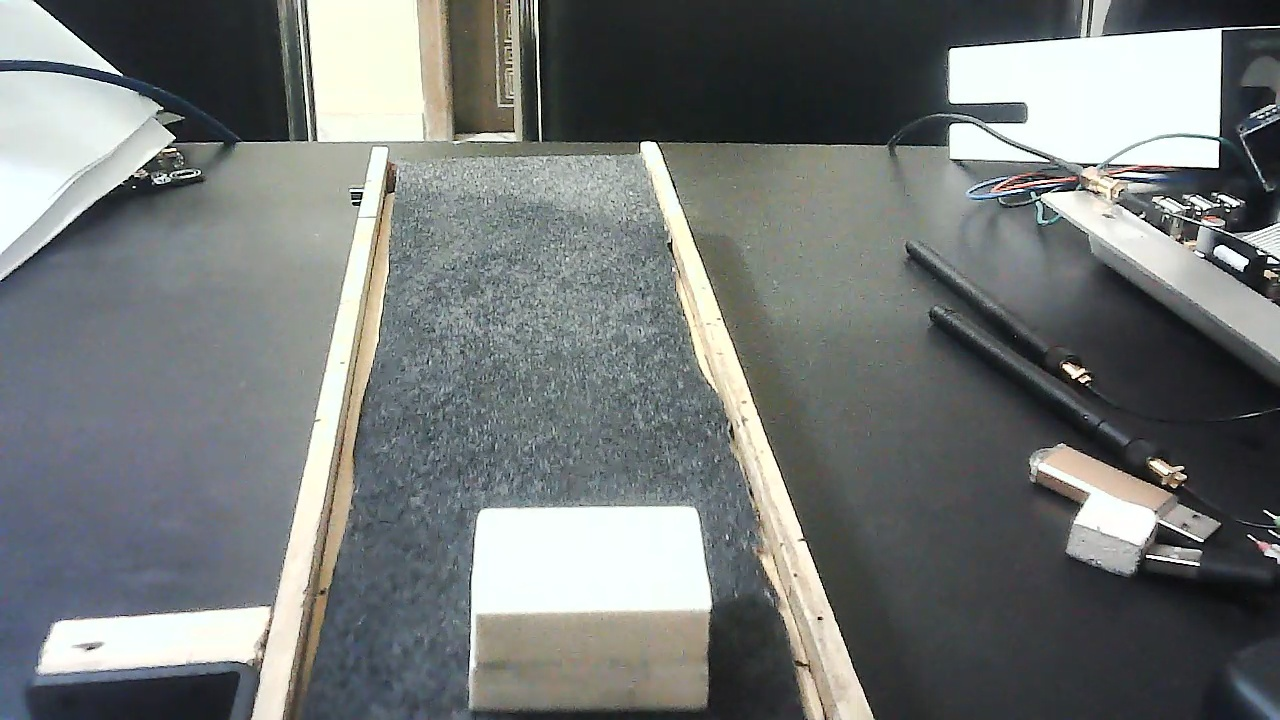BIG: (472, 480, 711, 720)
